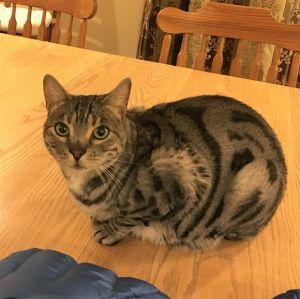bengal: (36, 71, 138, 182)
